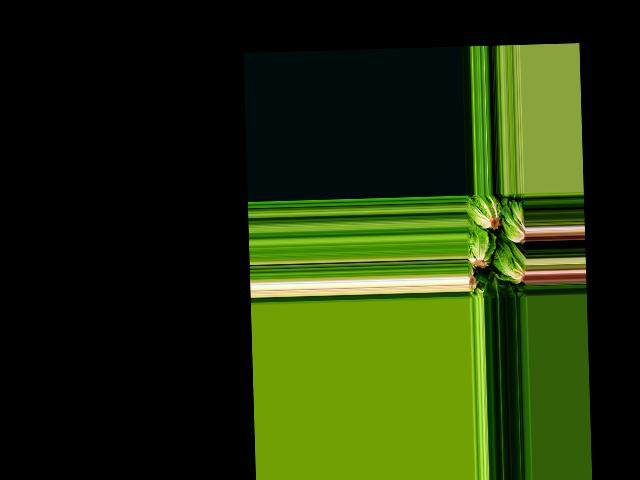lettuce: (482, 273, 507, 299)
